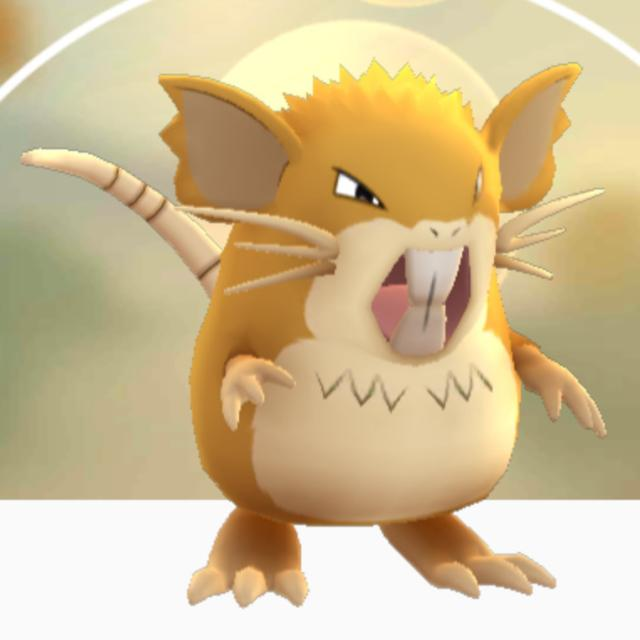Raticate: (165, 57, 579, 598)
